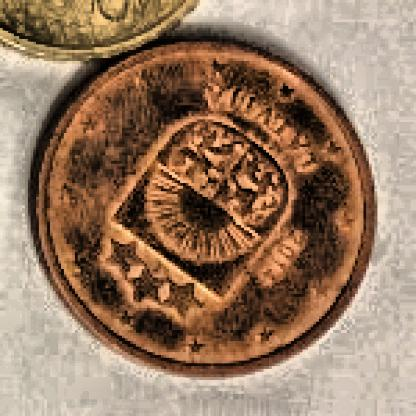coin: (38, 39, 378, 376)
